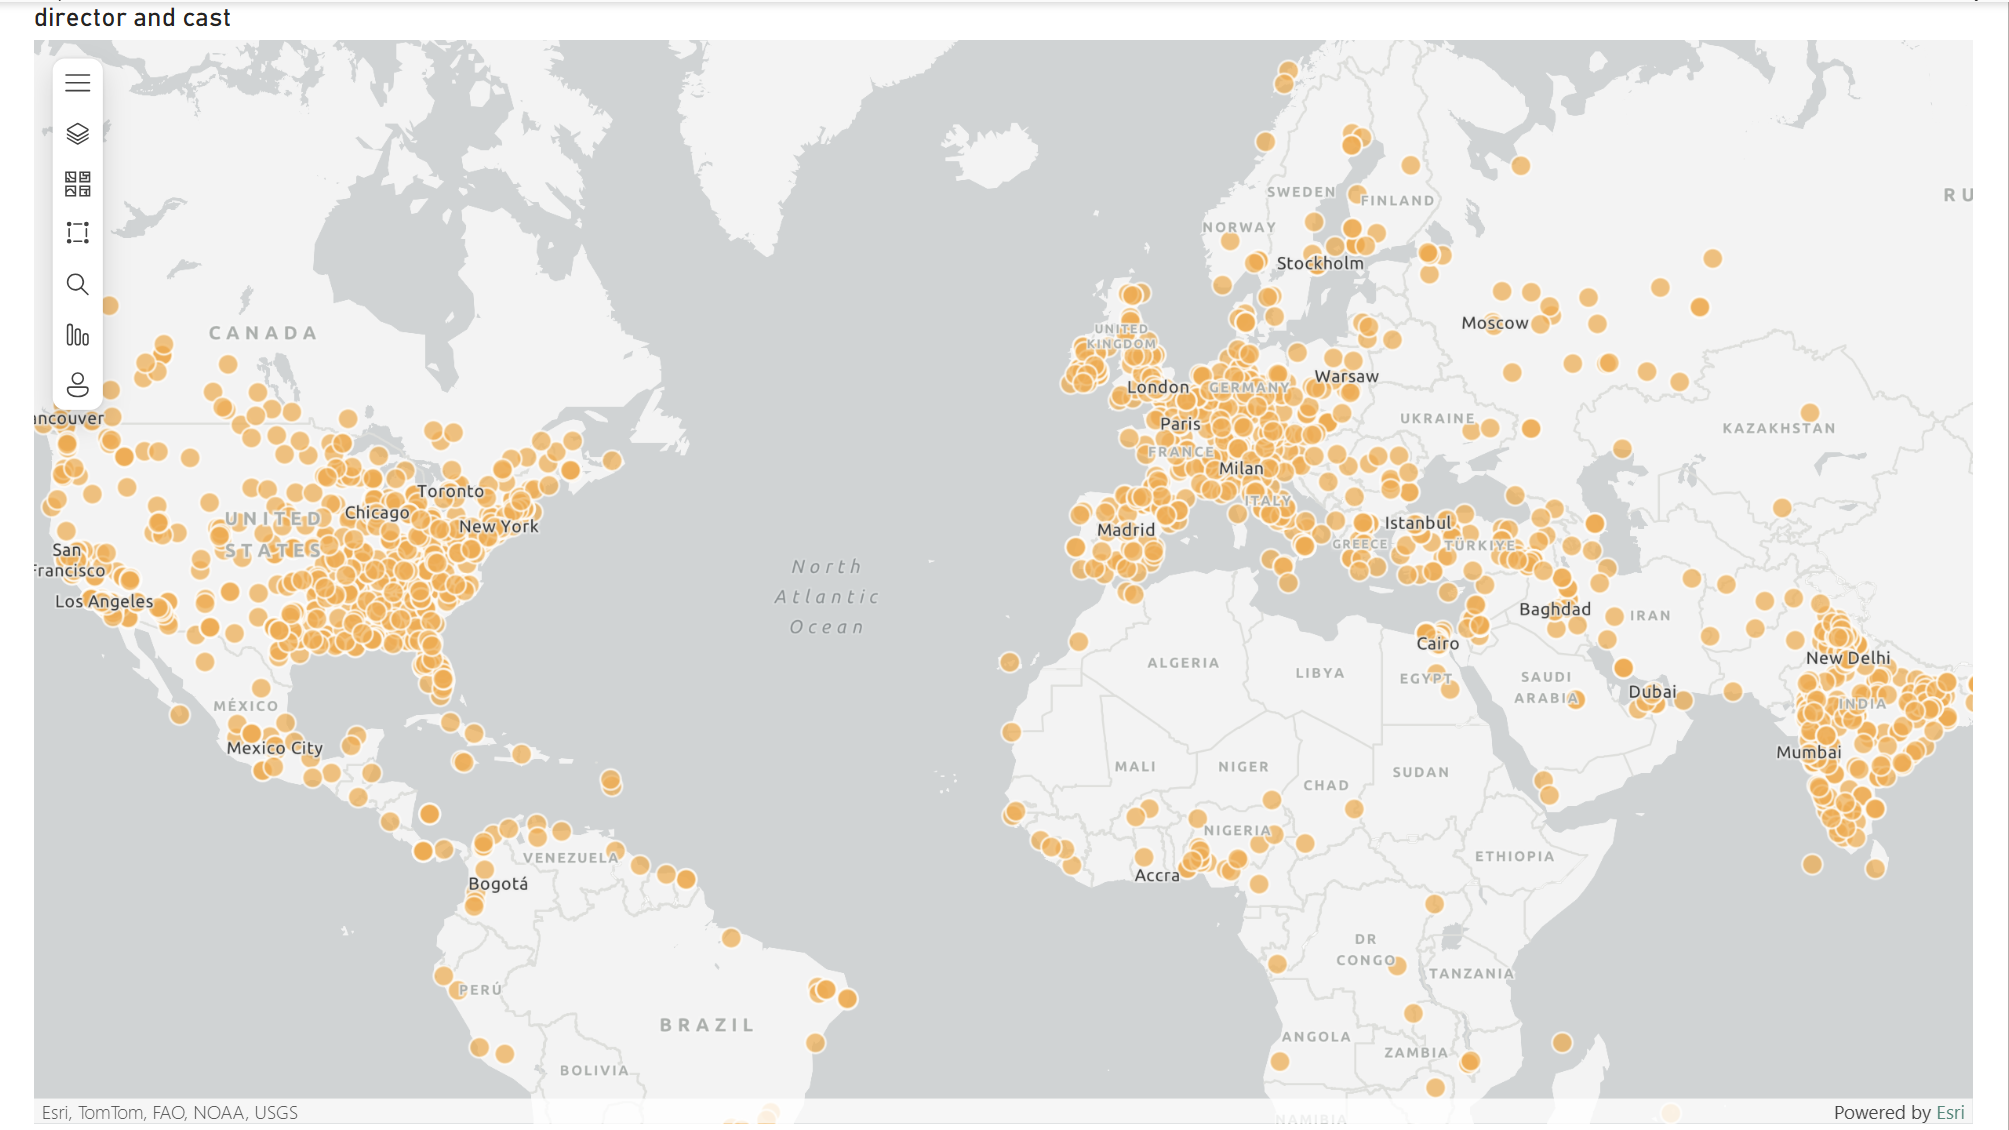

Layout of this report page (visuals, bound fields, positions):
{"tool":"powerbi","page":{"name":"Director & Cast","canvas":[1280,720],"ordinal":1},"visuals":[{"type":"esriVisual","fields":{"Location":["Netflix.director"],"JoinField":["Netflix.cast"]},"box":[16.2,0,1245.8,720],"z":0}]}

Visuals, with their boxes on the page's 1280x720 design canvas (x1, y1, x2, y2). These are canvas units, not pixel positions in the 2009x1130 screenshot, which may show the page scaled, cropped or inside an application window:
esriVisual - Netflix.director x Netflix.cast: box(16, 0, 1262, 720)
